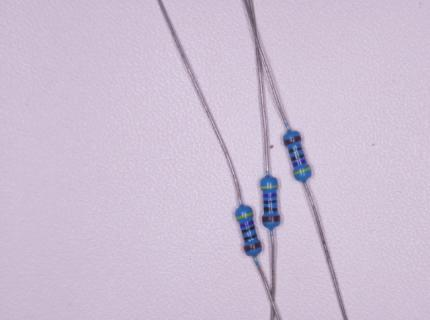Black band: (241, 226, 255, 234), (243, 233, 257, 241), (291, 154, 304, 162), (288, 147, 302, 153), (263, 207, 277, 212), (263, 201, 277, 203)
Brown band: (284, 135, 301, 146), (244, 242, 261, 252), (262, 216, 280, 222)
Violet band: (293, 159, 307, 167), (240, 220, 253, 228), (263, 193, 277, 198)
Yellow band: (236, 212, 252, 220), (294, 167, 310, 175), (261, 186, 278, 189)
